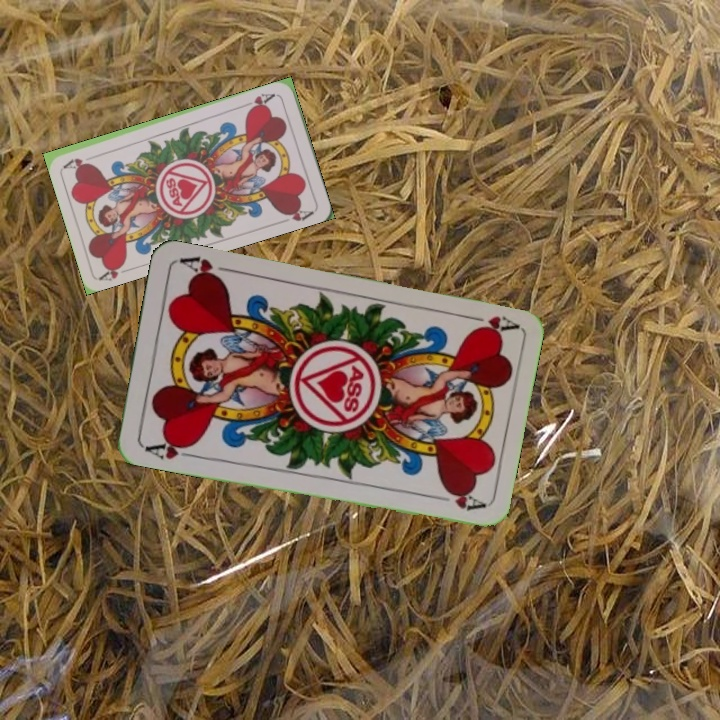HA: (460, 311, 519, 339), (139, 435, 199, 462), (96, 258, 136, 284), (243, 89, 280, 114)
